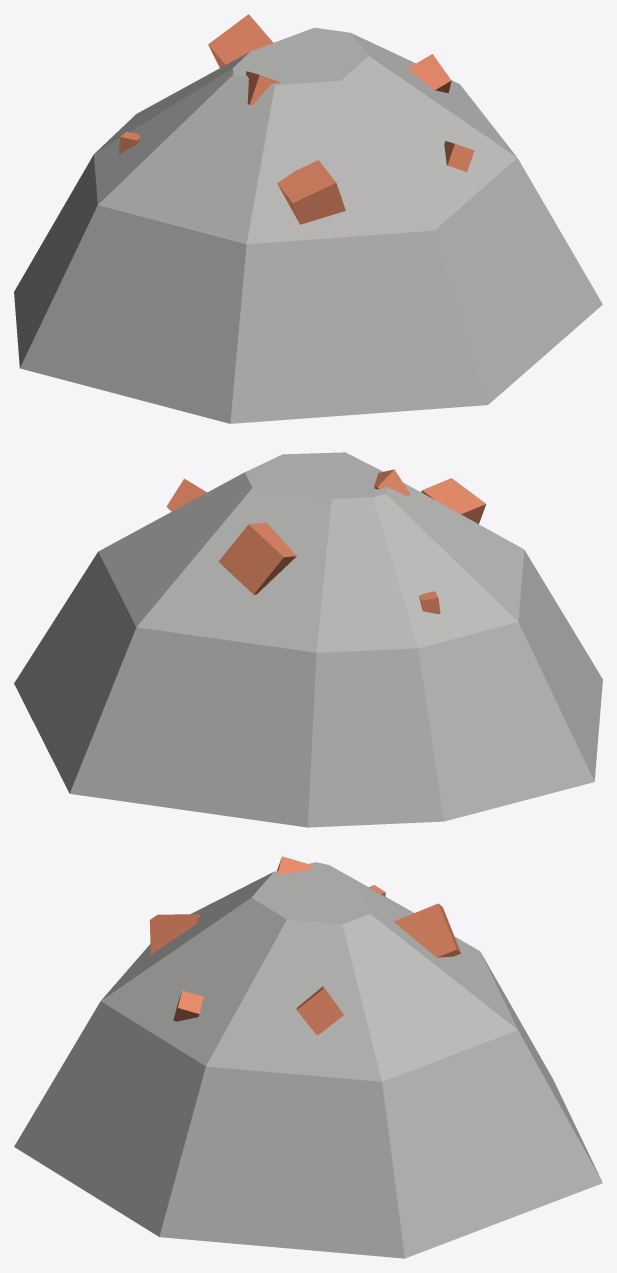
The model's file is RockCopper.fbx.
3 renders of one model, top to bottom at view 1: azimuth 30°, elevation 25°; view 2: azimuth 150°, elevation 25°; view 3: azimuth 270°, elevation 25°, orthographic. The views are drawn at different scales.
Parts seen in each view (by area): view 1: Rock, Ore.002, Ore.001, Ore, Ore.005, Ore.003; view 2: Rock, Ore.001, Ore.002, Ore, Ore.003; view 3: Rock, Ore.001, Ore, Ore.002, Ore.005.
Part boxes in pixels (x1,y1,x2,y2): Rock: [14, 27, 602, 423]; Ore.002: [277, 160, 345, 224]; Ore.001: [208, 14, 273, 67]; Ore: [407, 54, 451, 93]; Ore.005: [444, 141, 474, 171]; Ore.003: [246, 71, 280, 105]; Rock: [14, 452, 602, 827]; Ore.001: [218, 522, 296, 594]; Ore.002: [421, 478, 486, 523]; Ore: [166, 478, 206, 511]; Ore.003: [374, 469, 409, 496]; Rock: [14, 862, 602, 1258]; Ore.001: [393, 903, 460, 957]; Ore: [296, 986, 343, 1034]; Ore.002: [149, 914, 200, 954]; Ore.005: [173, 990, 203, 1021].
Bounding box in the file's own units: 787 × 346 × 749.
